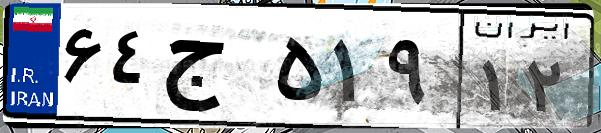1: (330, 28, 385, 110), (475, 38, 525, 113)
2: (525, 38, 570, 115)
4: (110, 28, 158, 98)
5: (270, 28, 330, 110)
6: (57, 26, 110, 100)
9: (385, 28, 445, 110)
ج: (158, 20, 270, 120)
